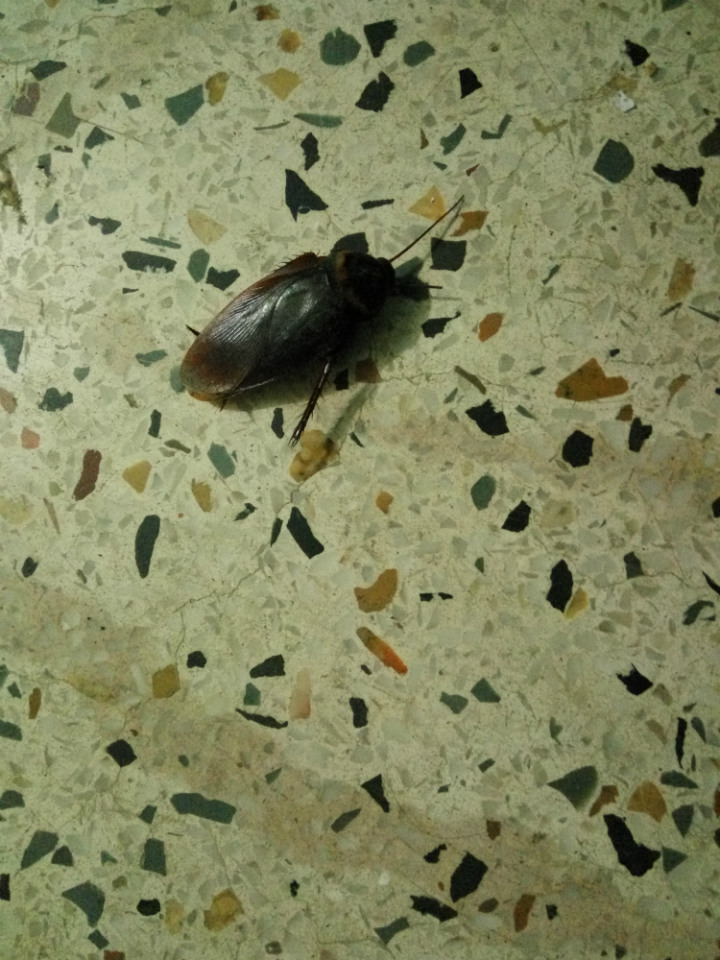cockroach: (91, 152, 573, 524)
